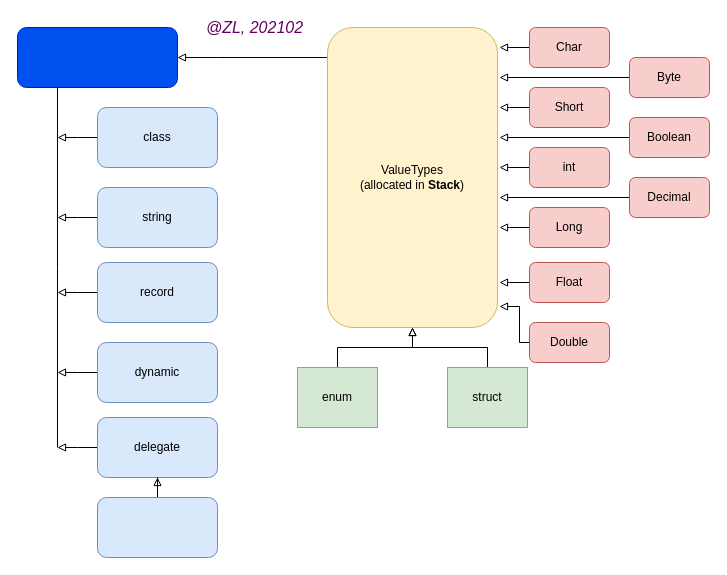
Some shapes in this 727 by 575 pixel diagram are drawn without their labels. The shapes that lost their labels are listed below. From the top down, each one's centre as x and y in pixels, then its label:
At (x=97, y=57): "System.Object".
At (x=157, y=527): "MultiDelegate".
